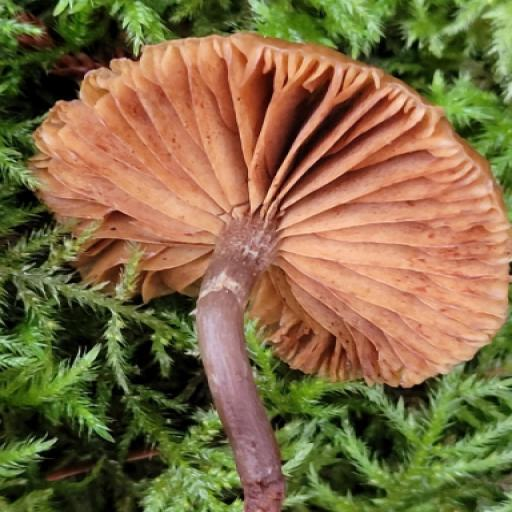mushroom: (27, 30, 512, 435)
